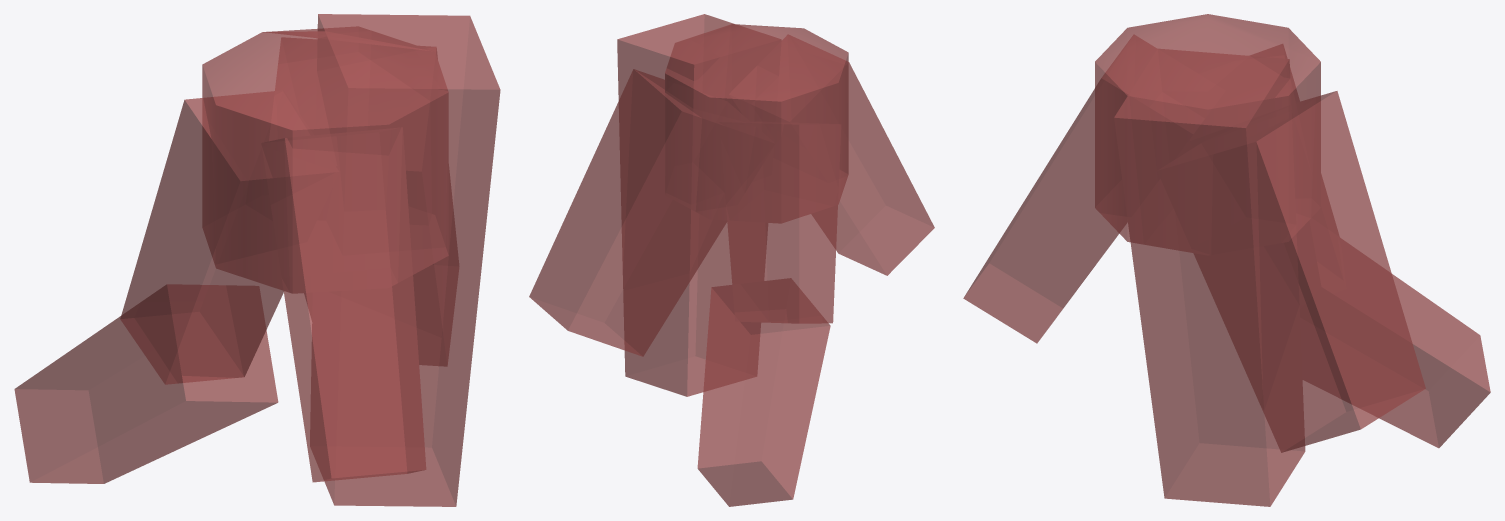
The model's file is SM_Env_Tree_Root_Clump_01_Collision.fbx.
3 views of the same model, side by side, from view 1: azimuth 30°, elevation 25°; view 2: azimuth 150°, elevation 25°; view 3: azimuth 270°, elevation 25° (orthographic). The views are drawn at different scales.
Visible parts, largest first — view 1: SM_Env_Tree_Root_Clump_01_Collision; view 2: SM_Env_Tree_Root_Clump_01_Collision; view 3: SM_Env_Tree_Root_Clump_01_Collision.
Boxes of the visible parts, x1,y1,x2,y2 form: SM_Env_Tree_Root_Clump_01_Collision: (14, 14, 500, 506); SM_Env_Tree_Root_Clump_01_Collision: (529, 14, 934, 506); SM_Env_Tree_Root_Clump_01_Collision: (963, 14, 1490, 506).
Bounding box in the file's own units: 235 × 301 × 306.
